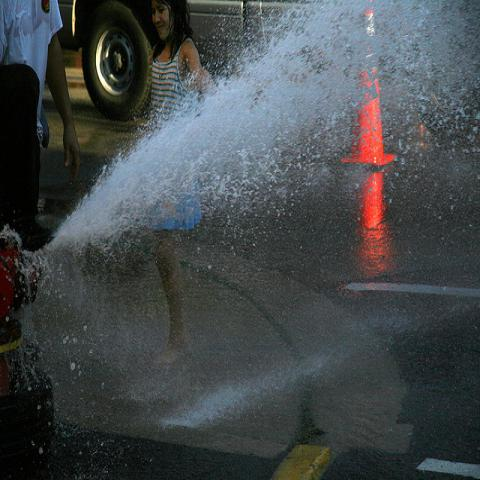car: (57, 3, 301, 124)
truck: (54, 1, 299, 117)
